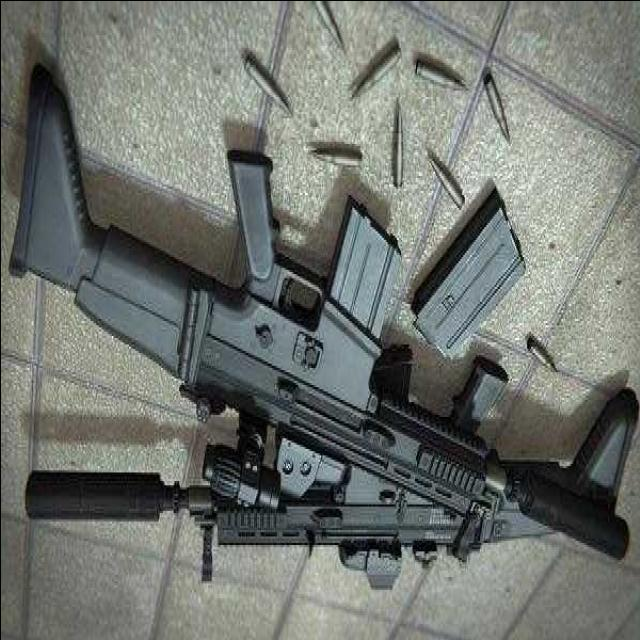heavyweapon: (19, 67, 633, 577)
